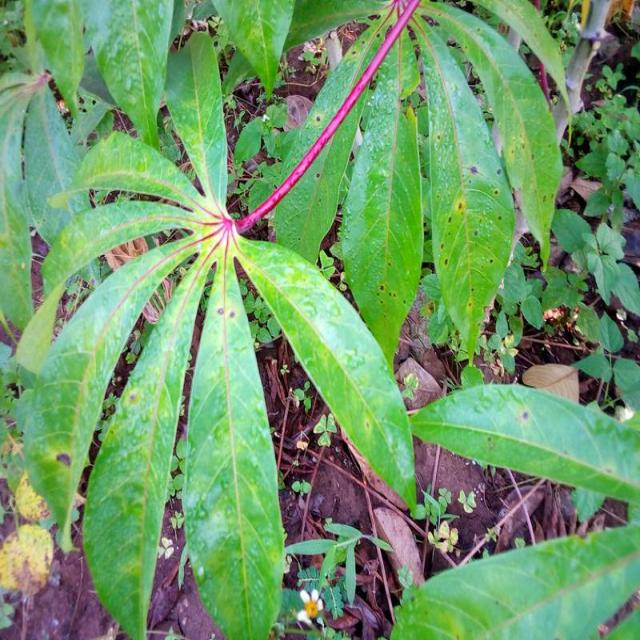cassava leaf: (19, 18, 422, 638), (232, 232, 419, 518), (181, 248, 285, 638), (406, 381, 640, 520)
